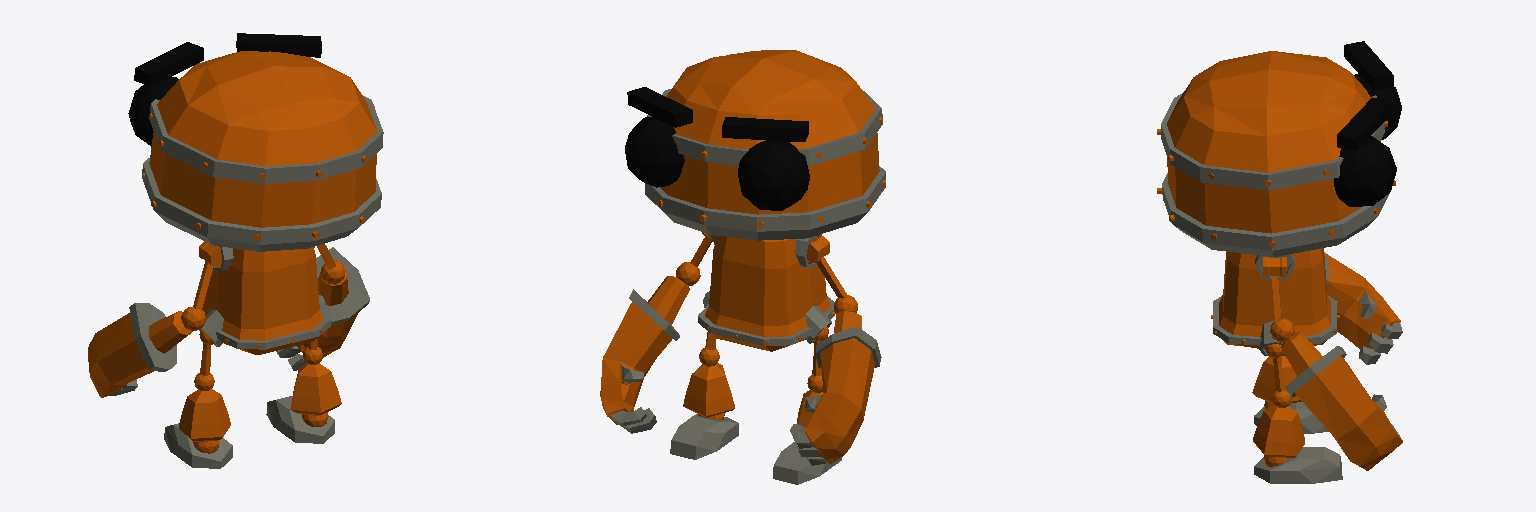
File: Robot.obj
3 renders of one model, left to right at view 1: azimuth 30°, elevation 25°; view 2: azimuth 150°, elevation 25°; view 3: azimuth 270°, elevation 25°, orthographic.
Visible parts, largest first — view 1: Head, Torso, Hand.L, Hand.R, LowerLeg.L, LowerLeg.R, Foot.R, Foot.L, Arm.L, Arm.R, Leg.L; view 2: Head, Torso, Hand.L, Hand.R, Foot.R, LowerLeg.R, Foot.L, Arm.L, Arm.R; view 3: Head, Torso, Hand.R, Hand.L, Foot.R, LowerLeg.R, LowerLeg.L, Arm.R, Foot.L, Leg.R.
Boxes of the visible parts, x1,y1,x2,y2 form: Head: [128, 33, 383, 251]; Torso: [199, 246, 330, 354]; Hand.L: [88, 303, 192, 397]; Hand.R: [276, 247, 369, 370]; LowerLeg.L: [179, 389, 230, 453]; LowerLeg.R: [290, 363, 341, 426]; Foot.R: [266, 396, 334, 443]; Foot.L: [164, 423, 232, 468]; Arm.L: [181, 260, 213, 330]; Arm.R: [317, 244, 345, 284]; Leg.L: [194, 343, 214, 390]; Head: [625, 50, 885, 240]; Torso: [698, 234, 835, 351]; Hand.L: [790, 311, 881, 465]; Hand.R: [600, 276, 689, 433]; Foot.R: [670, 413, 738, 459]; LowerLeg.R: [683, 363, 734, 419]; Foot.L: [773, 442, 841, 484]; Arm.L: [816, 256, 857, 312]; Arm.R: [676, 236, 712, 285]; Head: [1157, 41, 1401, 256]; Torso: [1211, 248, 1339, 357]; Hand.R: [1281, 332, 1402, 470]; Hand.L: [1324, 252, 1402, 364]; Foot.R: [1254, 447, 1342, 483]; LowerLeg.R: [1253, 405, 1304, 466]; LowerLeg.L: [1252, 356, 1301, 408]; Arm.R: [1270, 276, 1294, 342]; Foot.L: [1254, 402, 1328, 433]; Leg.R: [1271, 356, 1291, 407].
Size of the model in its own units: 3.1 by 4.5 by 2.63.